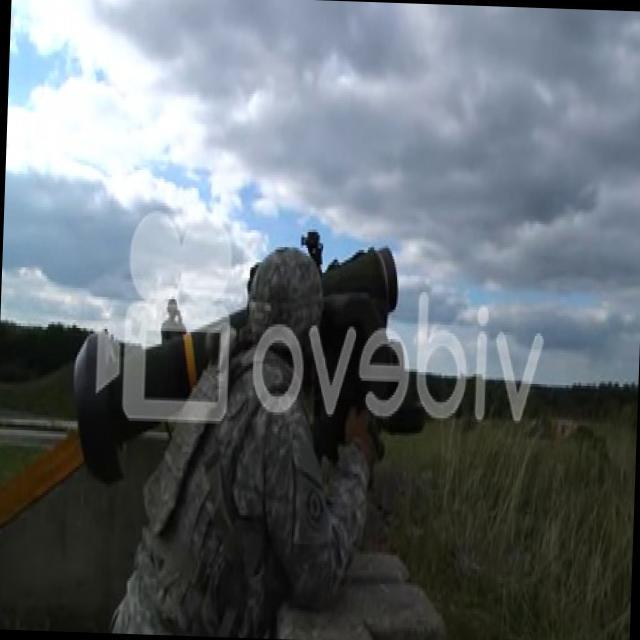rocket: (68, 232, 398, 490)
